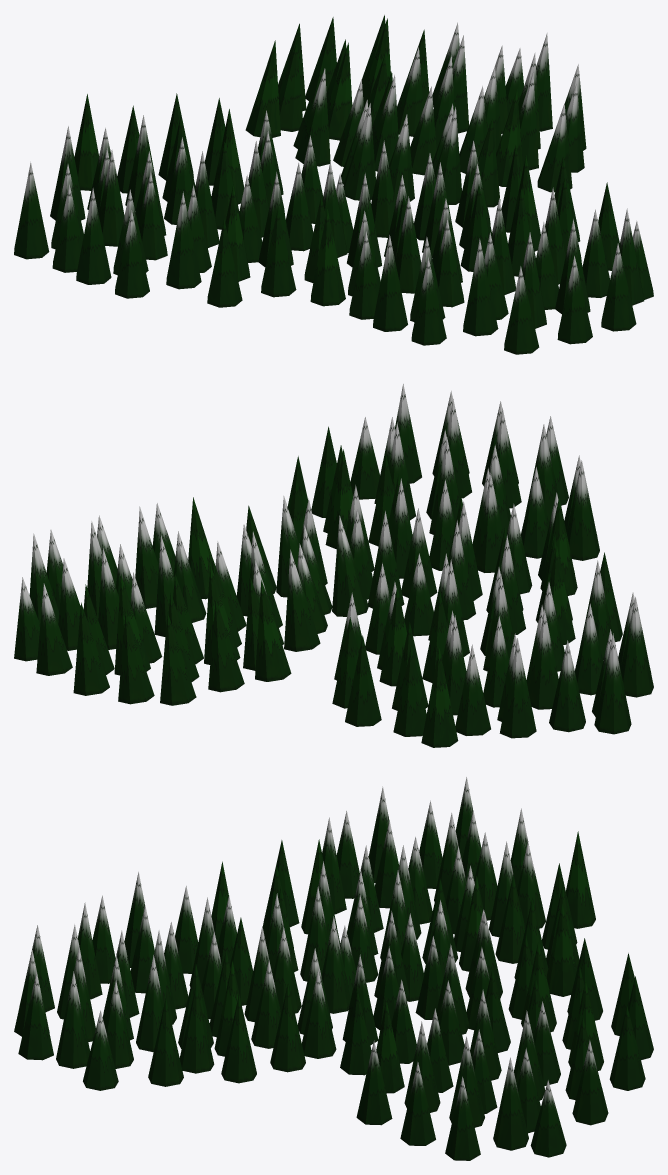
The model's file is forest_2.fbx.
3 renders of one model, top to bottom at view 1: azimuth 30°, elevation 25°; view 2: azimuth 150°, elevation 25°; view 3: azimuth 270°, elevation 25°, orthographic. The views are drawn at different scales.
Parts seen in each view (by area): view 1: polySurface172; view 2: polySurface172; view 3: polySurface172.
Part boxes in pixels (box(x1,y1,x2,y2)): polySurface172: box(14, 15, 653, 354); polySurface172: box(14, 384, 653, 747); polySurface172: box(14, 777, 653, 1160).
Size of the model in its own units: 59.52 by 13.62 by 58.35.
